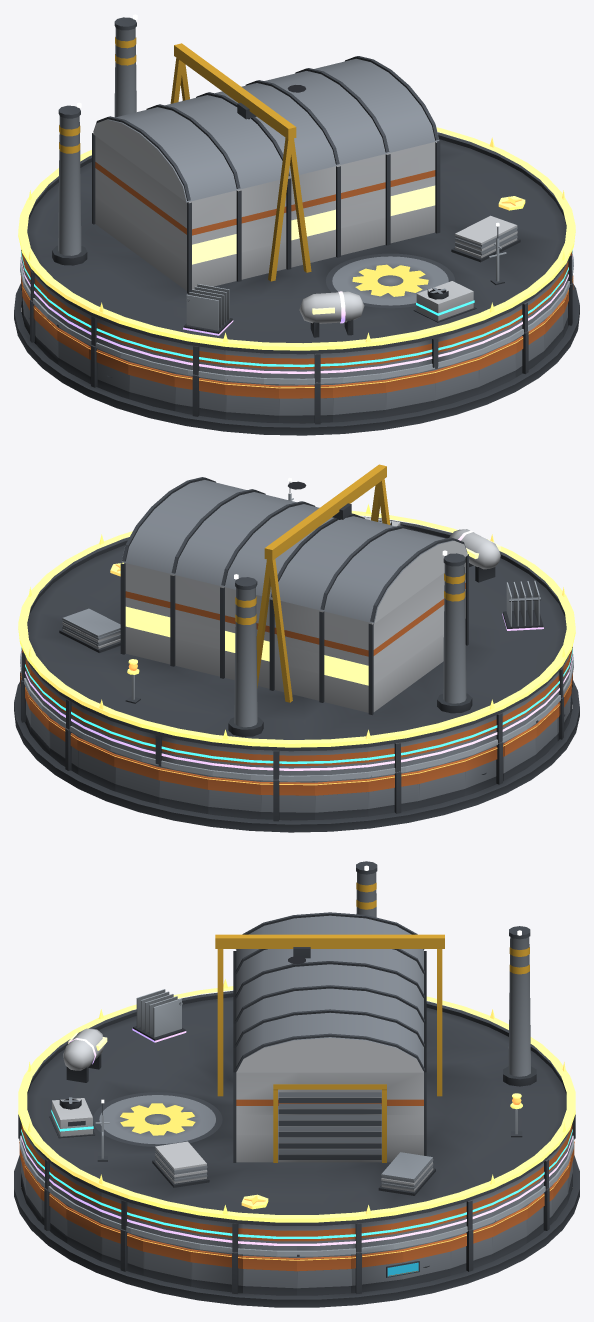
The model's file is fabricator_m.glb.
The picture shows the model from 3 angles, top to bottom: view 1: azimuth 30°, elevation 25°; view 2: azimuth 150°, elevation 25°; view 3: azimuth 270°, elevation 25°; orthographic projection.
Visible parts, largest first — view 1: Roof, Base, L4, Wall_21, Wall_20, Wall_22, Wall_19, Wall_23, Wall_18, L3, Wall_24, Wall_17 (+19 smaller); view 2: Roof, Base, L4, Wall_10, Wall_11, Wall_09, Wall_12, Wall_08, Wall_13, Wall_07, Wall_14, Wall_06 (+22 smaller); view 3: Roof, Base, L4, Wall_00, Wall_31, Wall_30, Wall_29, Wall_01, Wall_02, Wall_03, Wall_28, L3 (+22 smaller).
Boxes of the visible parts, x1,y1,x2,y2 form: Roof: (24, 14, 566, 354); Base: (14, 283, 579, 435); L4: (183, 284, 364, 337); Wall_21: (279, 382, 332, 424); Wall_20: (225, 379, 278, 422); Wall_22: (333, 378, 385, 422); Wall_19: (174, 372, 225, 419); Wall_23: (385, 369, 435, 416); Wall_18: (128, 360, 175, 411); L3: (413, 281, 476, 322); Wall_24: (434, 356, 479, 407); Wall_17: (88, 345, 129, 398); Roof: (27, 464, 569, 751); Base: (14, 680, 579, 832); L4: (449, 529, 543, 630); Wall_10: (261, 779, 314, 821); Wall_11: (315, 777, 368, 819); Wall_09: (208, 775, 260, 819); Wall_12: (368, 769, 419, 816); Wall_08: (158, 764, 208, 813); Wall_13: (418, 757, 465, 807); Wall_07: (114, 753, 159, 804); Wall_14: (464, 742, 505, 795); Wall_06: (77, 736, 115, 791); Roof: (25, 861, 568, 1225); Base: (14, 1155, 579, 1307); L4: (63, 989, 186, 1082); Wall_00: (297, 1254, 350, 1295); Wall_31: (243, 1254, 296, 1295); Wall_30: (190, 1248, 242, 1293); Wall_29: (142, 1237, 191, 1286); Wall_01: (351, 1248, 403, 1293); Wall_02: (402, 1237, 451, 1286); Wall_03: (450, 1223, 493, 1275); Wall_28: (100, 1223, 143, 1275); L3: (49, 1097, 95, 1138).
Bounding box in the file's own units: 16.26 × 7.39 × 16.26.
